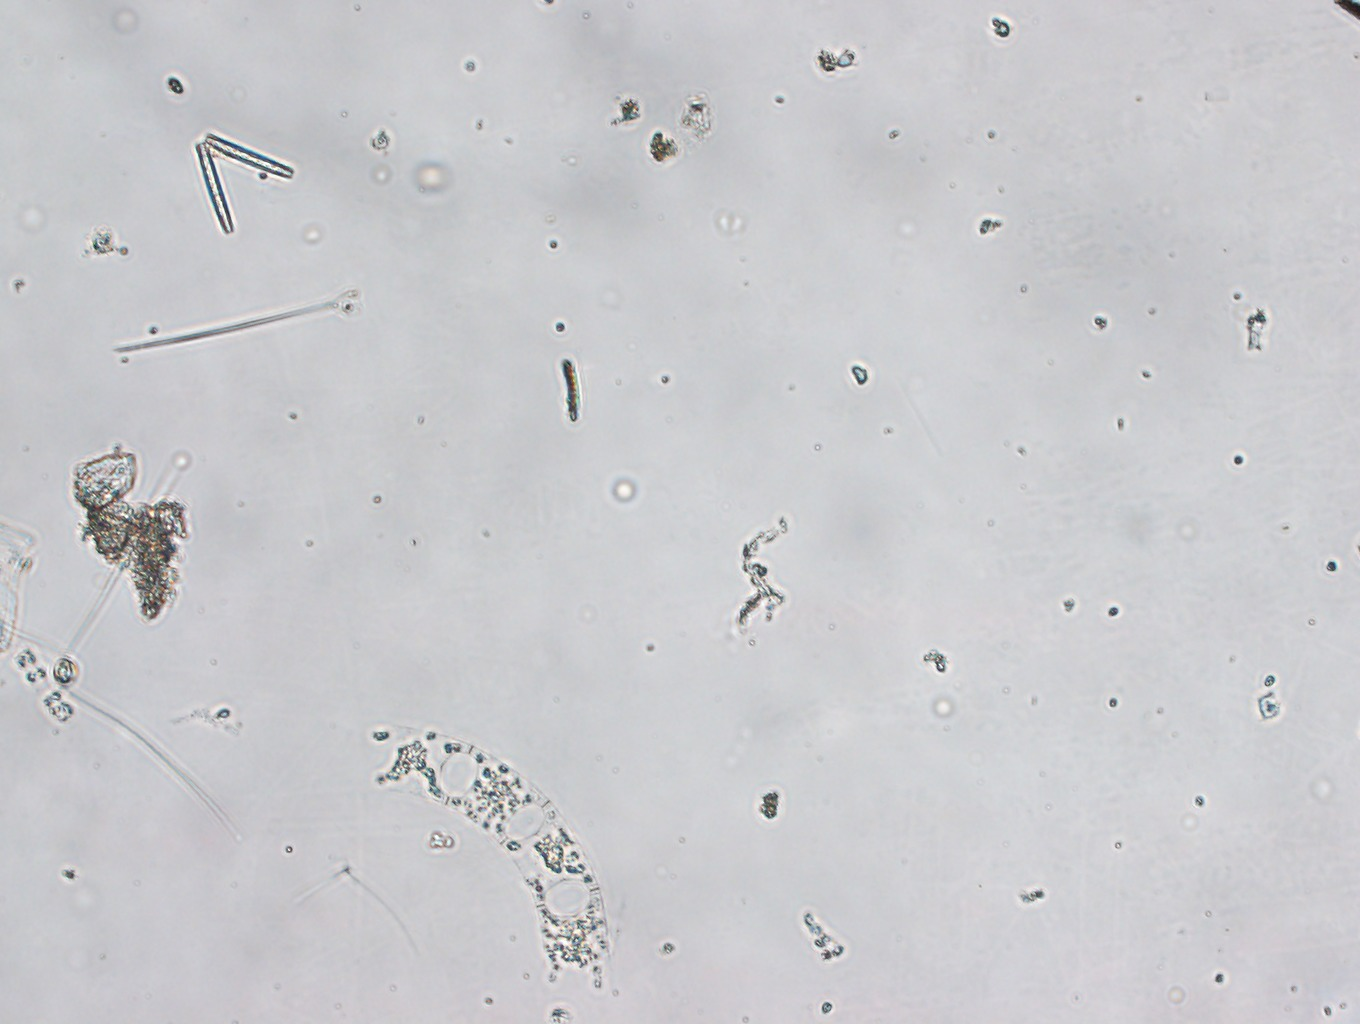eucampia: (374, 709, 629, 995)
thalassionema frauenfeldii: (185, 132, 298, 245)
